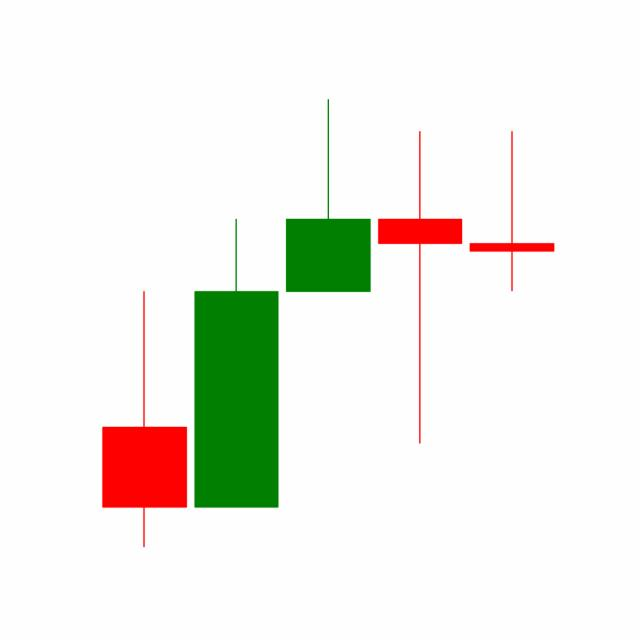Spinning Top: (464, 128, 558, 294)
